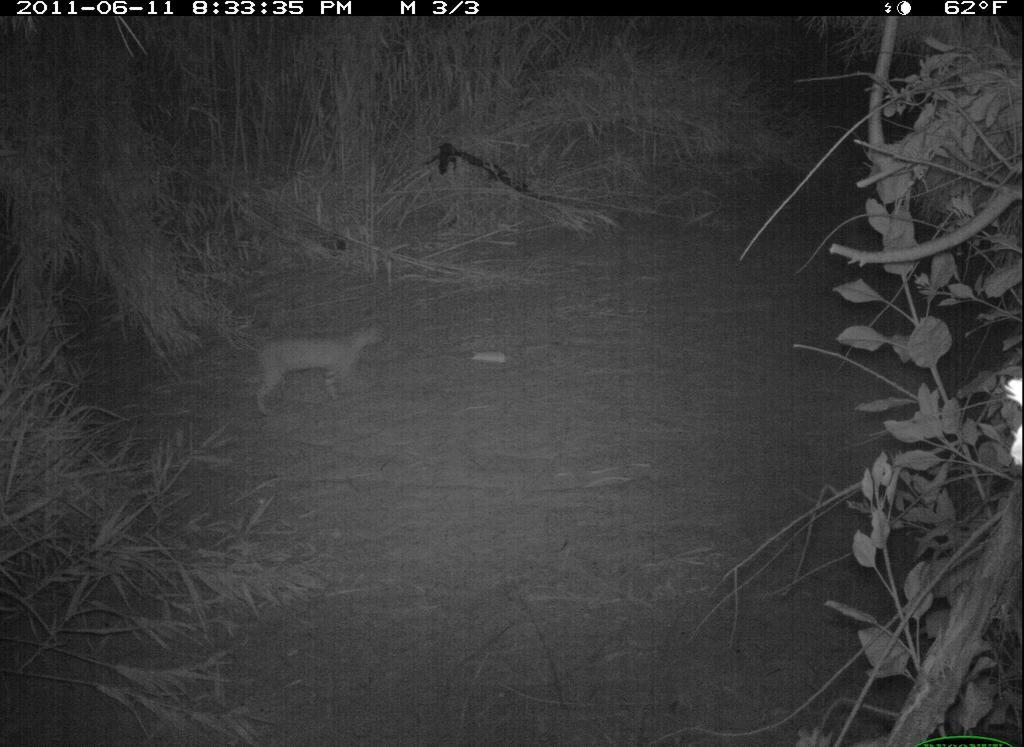bobcat: (240, 315, 392, 419)
